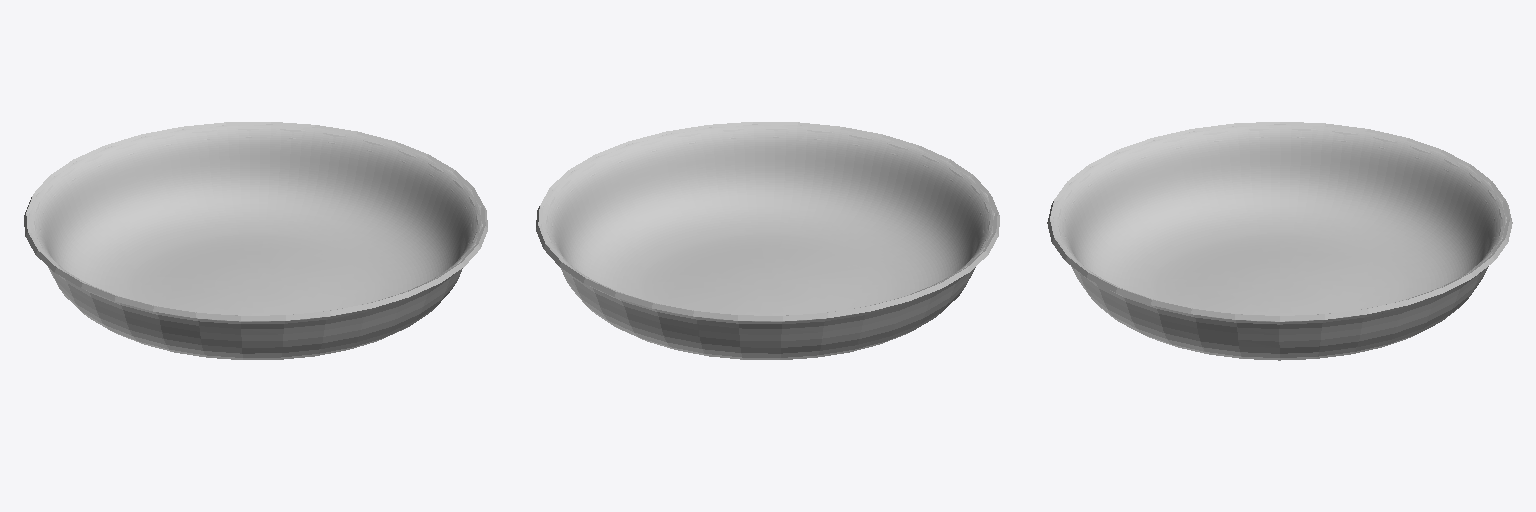
The model's file is try.obj.
The picture shows the model from 3 angles: view 1: azimuth 30°, elevation 25°; view 2: azimuth 150°, elevation 25°; view 3: azimuth 270°, elevation 25°; orthographic projection.
Parts seen in each view (by area): view 1: BowlK4; view 2: BowlK4; view 3: BowlK4.
Boxes of the visible parts, box(x1,y1,x2,y2) form: BowlK4: box(24, 122, 487, 359); BowlK4: box(536, 122, 999, 359); BowlK4: box(1047, 122, 1512, 360).
Size of the model in its own units: 5.87 by 1.04 by 5.87.